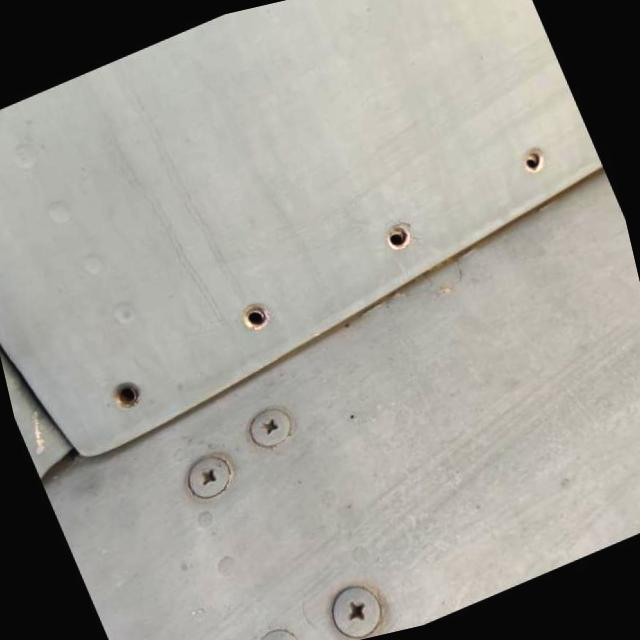Missing Fastener: (98, 372, 146, 418), (232, 291, 276, 336), (378, 215, 416, 254), (516, 142, 546, 176)
